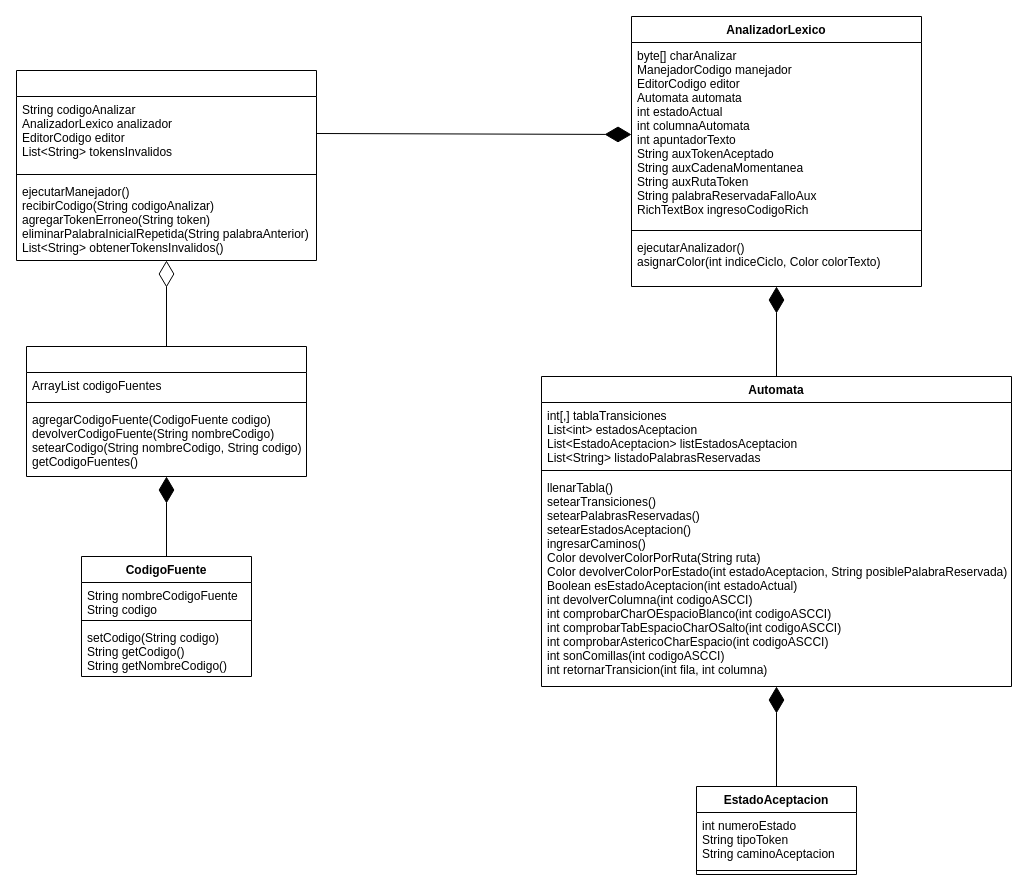
Image size: 1028x891. Some labels were removed from this diagram. Each missing label, with the box of its shape:
ManejadorCodigo: (16, 70, 316, 260)
Proyecto: (26, 346, 306, 476)
